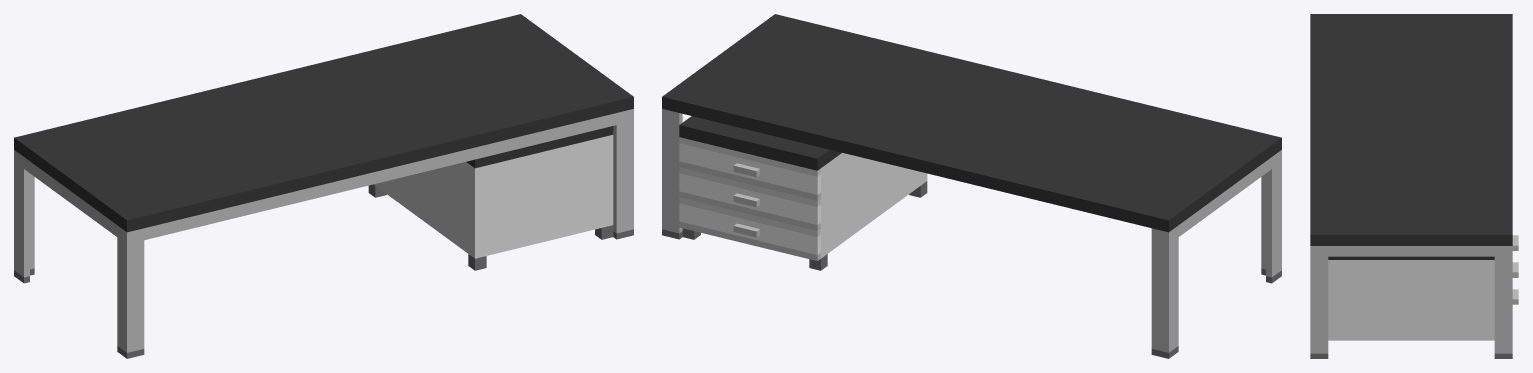
Rendered from Desk2-5.fbx.
3 renders of one model, left to right at view 1: azimuth 30°, elevation 25°; view 2: azimuth 150°, elevation 25°; view 3: azimuth 270°, elevation 25°, orthographic. The views are drawn at different scales.
Parts seen in each view (by area): view 1: Desk2-5; view 2: Desk2-5; view 3: Desk2-5.
Part boxes in pixels (<box>): Desk2-5: <box>14,14,633,358</box>; Desk2-5: <box>662,14,1281,358</box>; Desk2-5: <box>1310,14,1518,358</box>.
Bounding box in the file's own units: 8.8 × 2.3 × 3.5.
